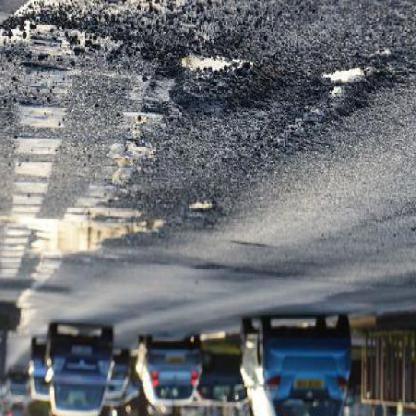pothole: (172, 54, 269, 112), (313, 68, 391, 127), (189, 201, 217, 216)
